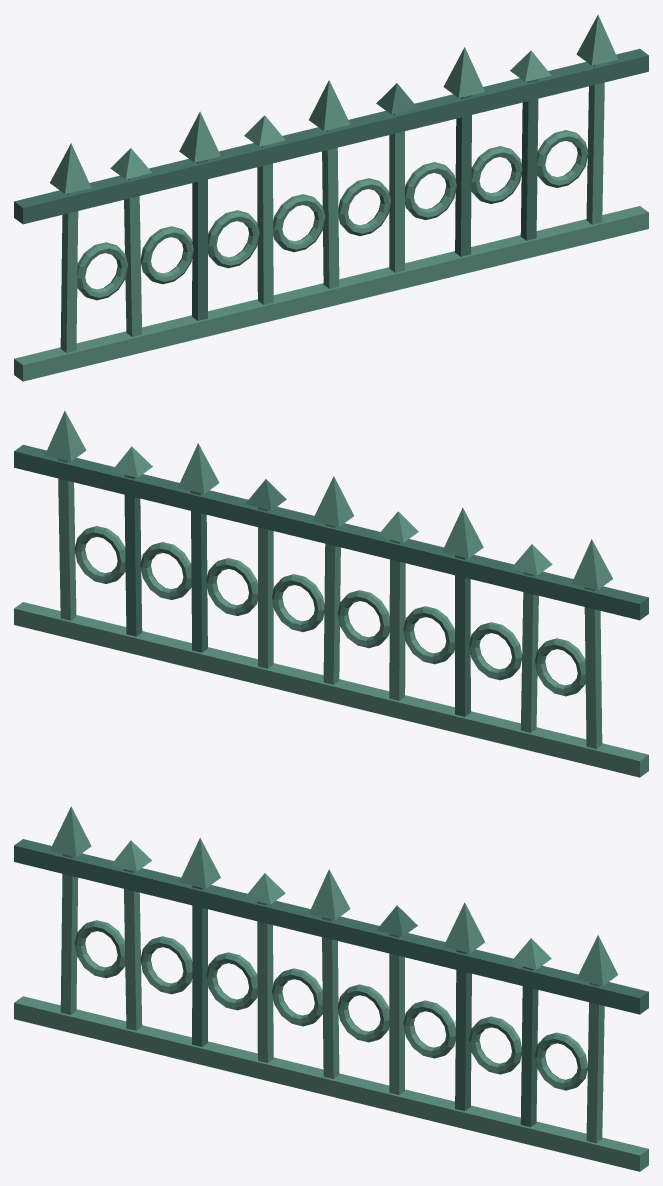
File: fence_section2.obj
3 renders of one model, top to bottom at view 1: azimuth 30°, elevation 25°; view 2: azimuth 150°, elevation 25°; view 3: azimuth 330°, elevation 25°, orthographic.
Size of the model in its own units: 2 by 0.6801 by 0.085.
